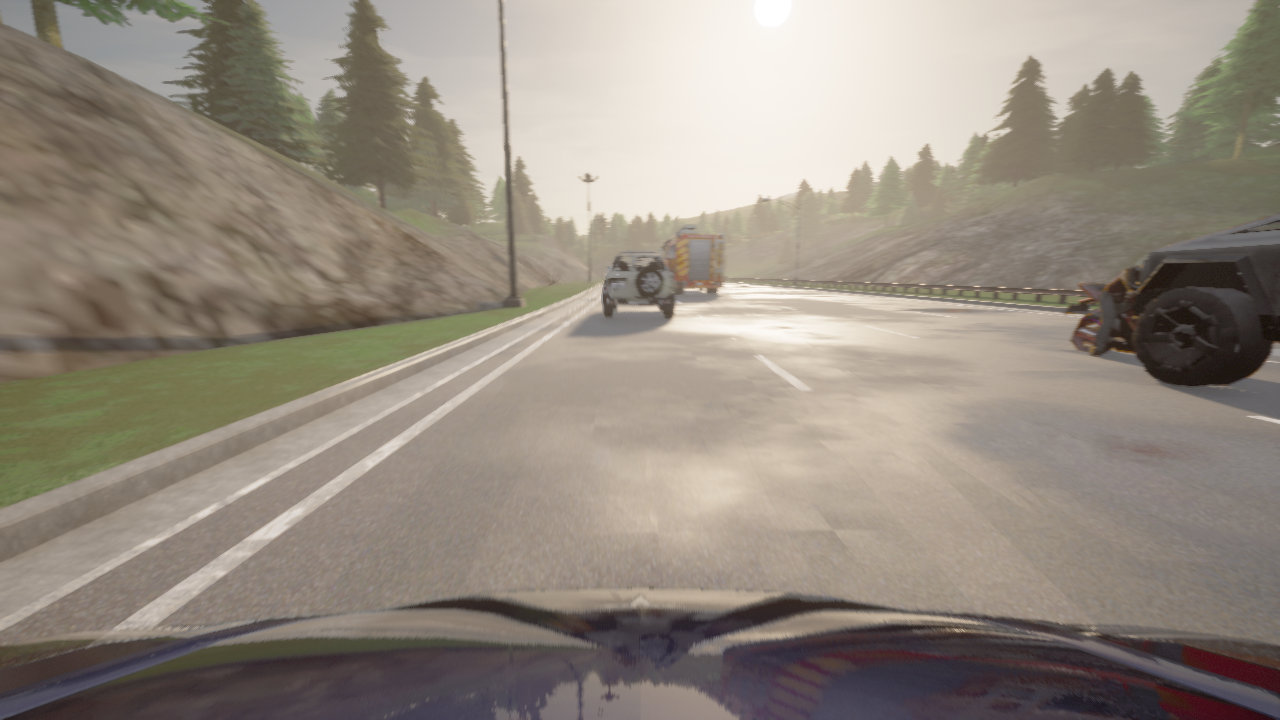cyclist: (0, 588, 1279, 719), (1132, 213, 1279, 386), (1065, 282, 1138, 352), (602, 250, 674, 317), (658, 225, 724, 293)
